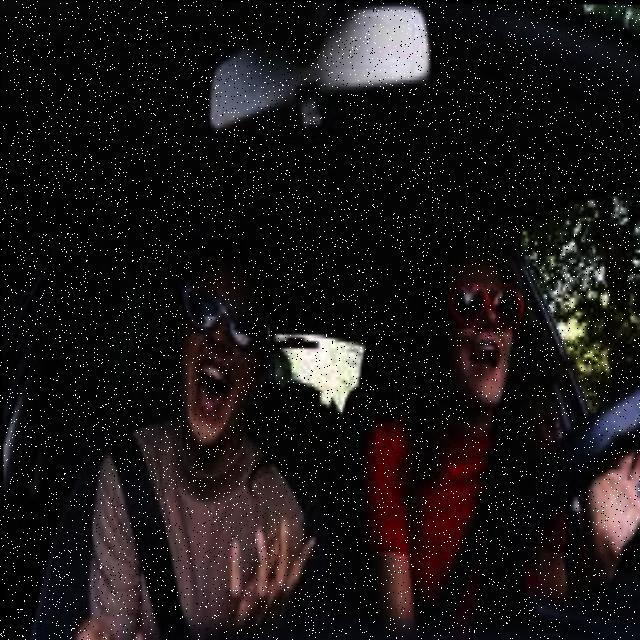seatbelt: (86, 410, 274, 640), (391, 374, 512, 635)
